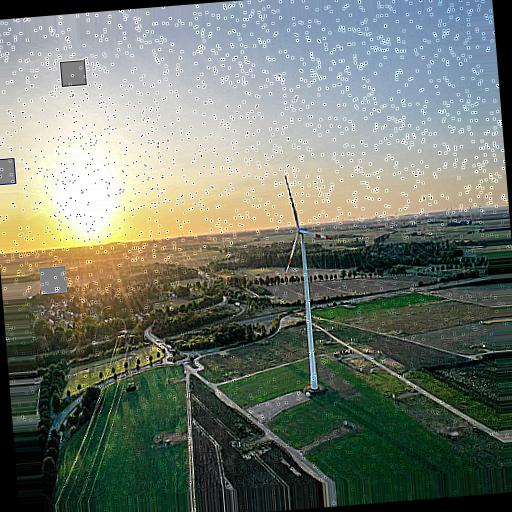wind turbine: (283, 175, 334, 396)
